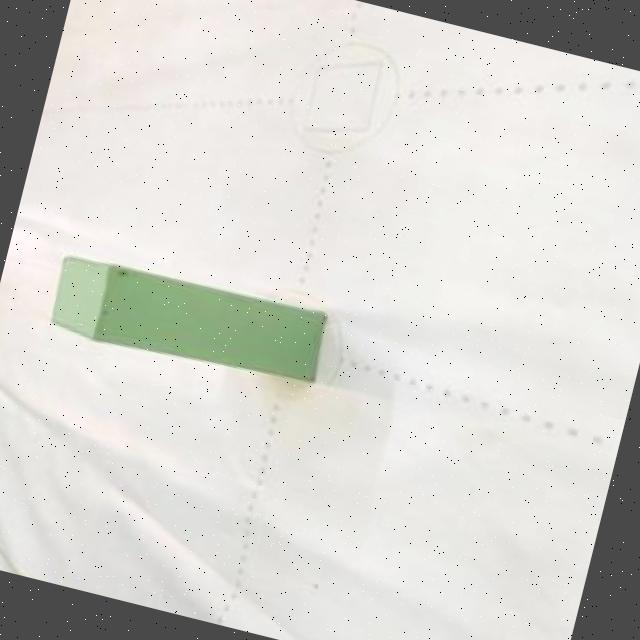greenbox: (36, 238, 336, 399)
